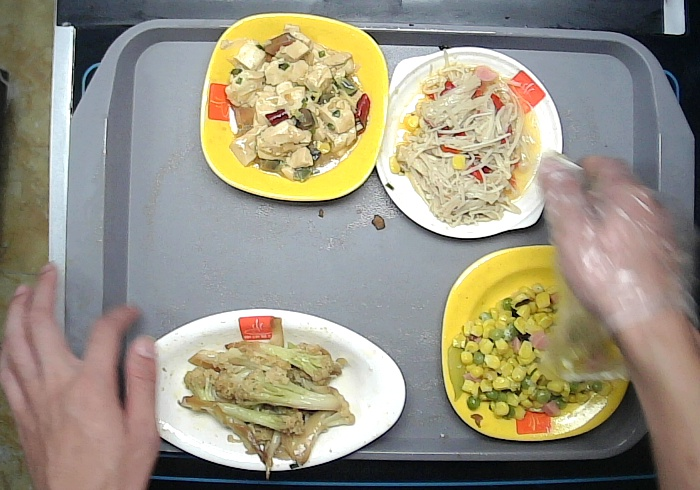SHKJ-Bao_Yu_Pan: (376, 47, 563, 241)
SHKJ-Huang_Se_Cai_Die: (200, 14, 385, 203)
SHKJ-Huang_Se_Si_Fang_Cai_Die: (440, 246, 629, 443)
SHKJ-Yu_Pan: (132, 308, 407, 472)
